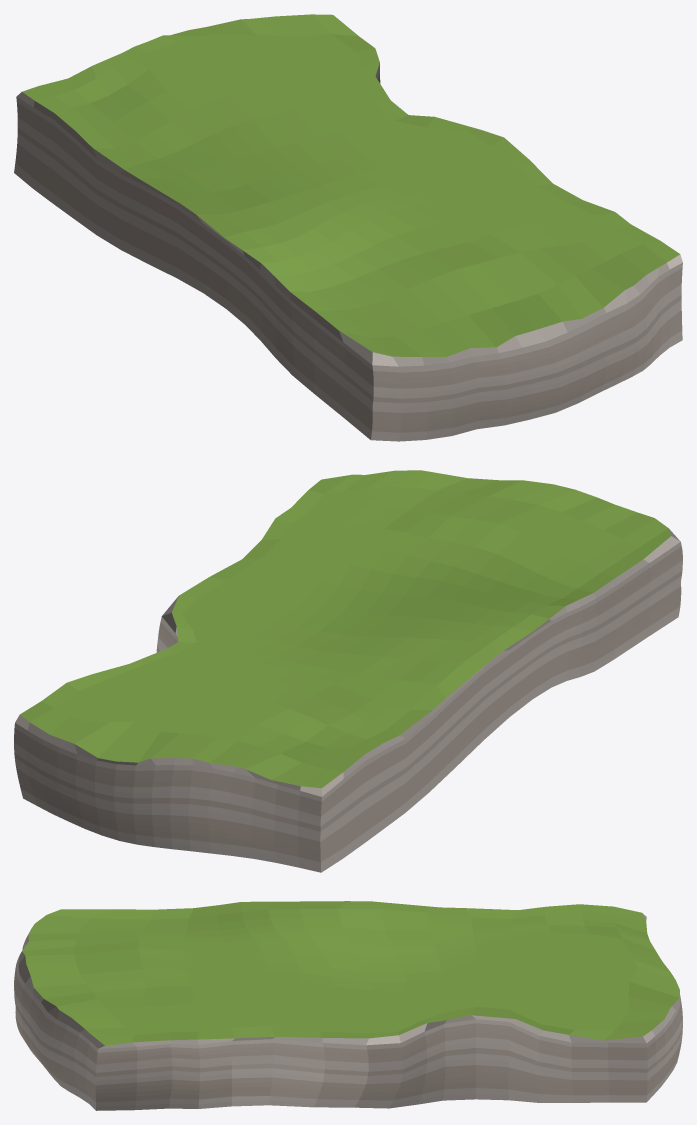
File: SM_Island_Straight_2.fbx
3 views of the same model, one above another, from view 1: azimuth 30°, elevation 25°; view 2: azimuth 150°, elevation 25°; view 3: azimuth 270°, elevation 25° (orthographic). The views are drawn at different scales.
Visible parts, largest first — view 1: pasted__pasted__pCube1; view 2: pasted__pasted__pCube1; view 3: pasted__pasted__pCube1.
Boxes of the visible parts, x1,y1,x2,y2 form: pasted__pasted__pCube1: [14, 14, 682, 441]; pasted__pasted__pCube1: [14, 470, 682, 872]; pasted__pasted__pCube1: [14, 901, 682, 1110].
Size of the model in its own units: 131 by 38.87 by 272.
